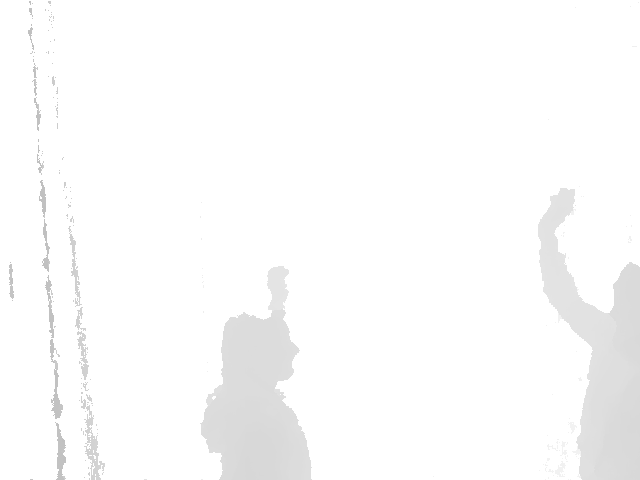hand: (537, 187, 576, 237), (266, 265, 292, 305)
head: (222, 313, 297, 389), (612, 261, 640, 315)
person: (535, 187, 640, 480), (199, 265, 313, 480)
